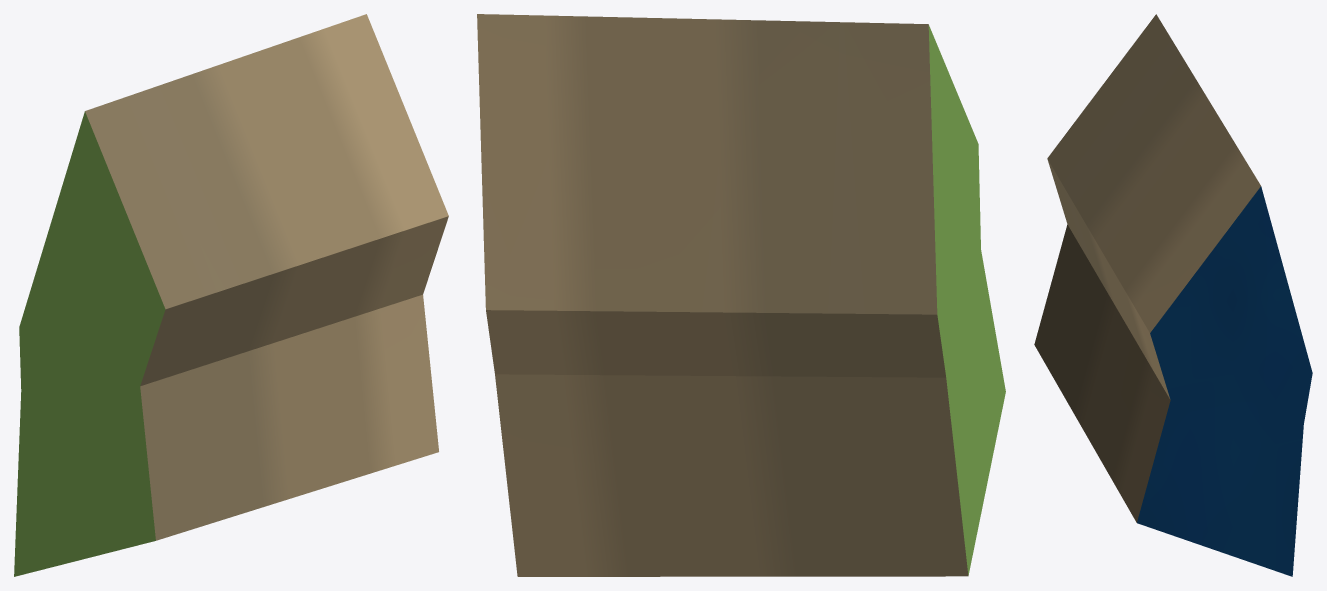
File: 05e4_Jamaica.glb
3 renders of one model, left to right at view 1: azimuth 30°, elevation 25°; view 2: azimuth 150°, elevation 25°; view 3: azimuth 270°, elevation 25°, orthographic. The views are drawn at different scales.
Parts seen in each view (by area): view 1: part_0; view 2: part_0; view 3: part_0.
Boxes of the visible parts, x1,y1,x2,y2 form: part_0: (14, 14, 448, 576); part_0: (477, 14, 1005, 576); part_0: (1034, 14, 1312, 576).
Size of the model in its own units: 0.2306 by 0.2692 by 0.1542.
1 material, 1 textured.
